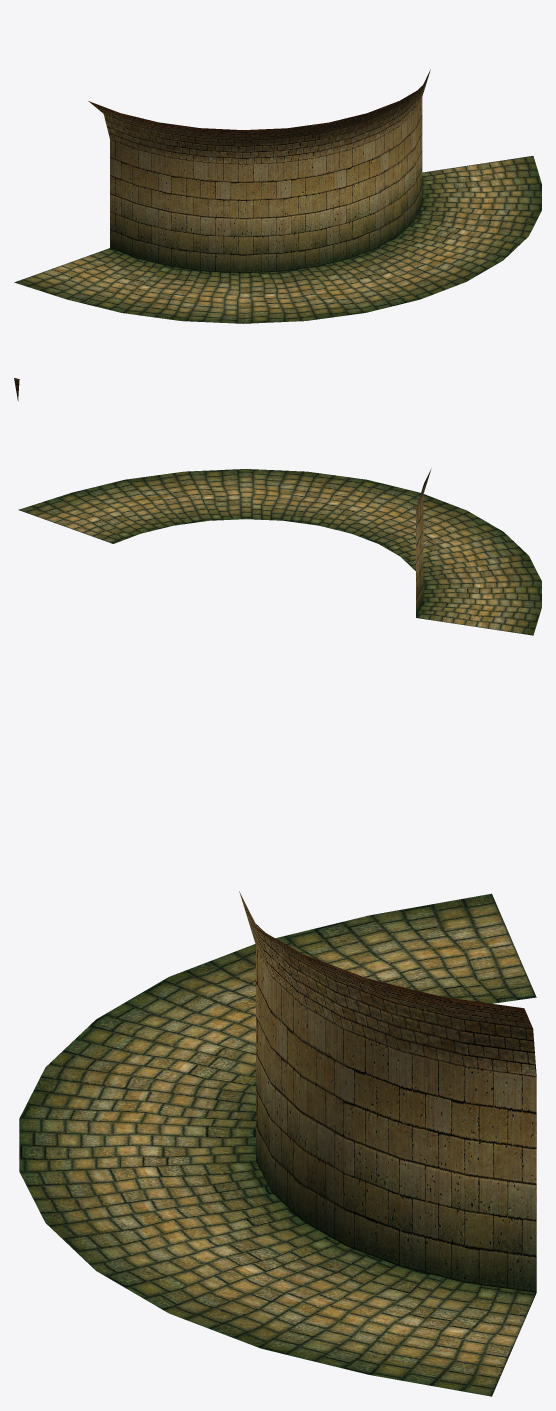
File: Mission12_Sewer02_E.glb
3 renders of one model, top to bottom at view 1: azimuth 30°, elevation 25°; view 2: azimuth 150°, elevation 25°; view 3: azimuth 270°, elevation 25°, orthographic. The views are drawn at different scales.
Visible parts, largest first — view 1: MISSION12_SEWER02_E; view 2: MISSION12_SEWER02_E; view 3: MISSION12_SEWER02_E.
Part boxes in pixels (x1,y1,x2,y2): MISSION12_SEWER02_E: [14, 69, 541, 323]; MISSION12_SEWER02_E: [14, 378, 541, 635]; MISSION12_SEWER02_E: [19, 891, 536, 1396].
Bounding box in the file's own units: 20 × 5.73 × 8.7.
Materials: 3 (3 with a texture image).
